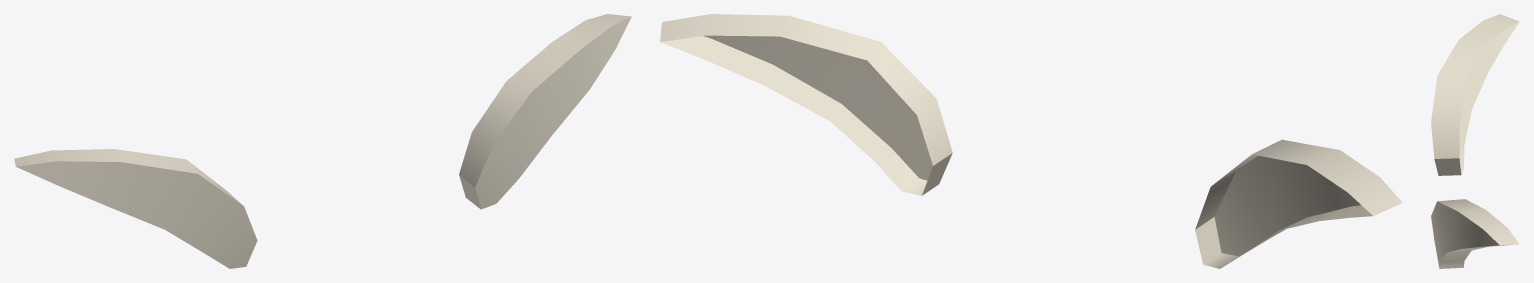
Rendered from Eyebrow_2.fbx.
3 renders of one model, left to right at view 1: azimuth 30°, elevation 25°; view 2: azimuth 150°, elevation 25°; view 3: azimuth 270°, elevation 25°, orthographic. The views are drawn at different scales.
Visible parts, largest first — view 1: Eyebrow_2; view 2: Eyebrow_2; view 3: Eyebrow_2.
Boxes of the visible parts, box(x1,y1,x2,y2) form: Eyebrow_2: box(14, 14, 631, 268); Eyebrow_2: box(660, 14, 1402, 268); Eyebrow_2: box(1431, 14, 1519, 268).
Size of the model in its own units: 27.94 by 5.35 by 4.54.
